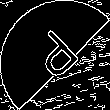P_SE: (24, 24, 86, 86)
